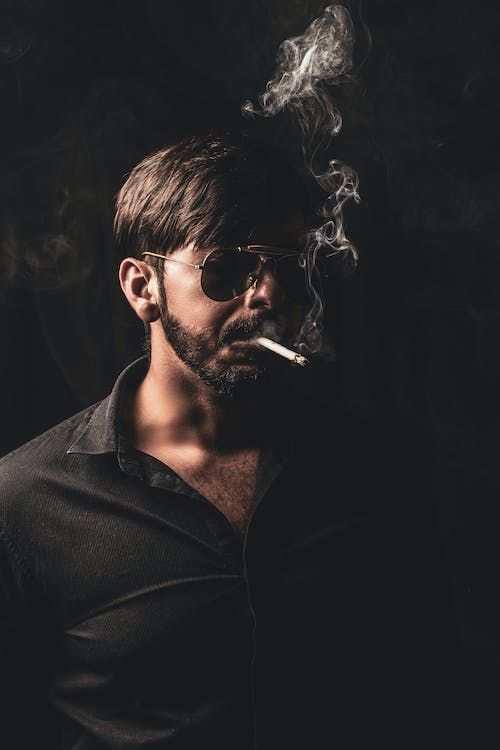cigarette: (253, 331, 309, 368)
